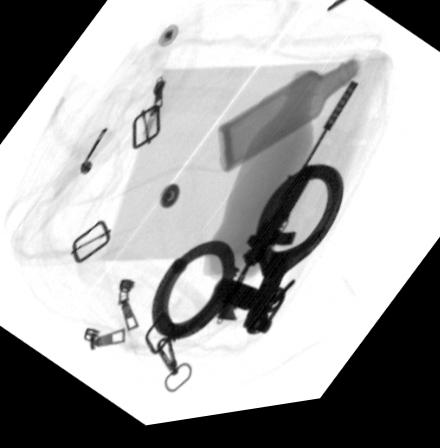Gun: (213, 91, 360, 329)
HandCuffs: (148, 171, 342, 345)
